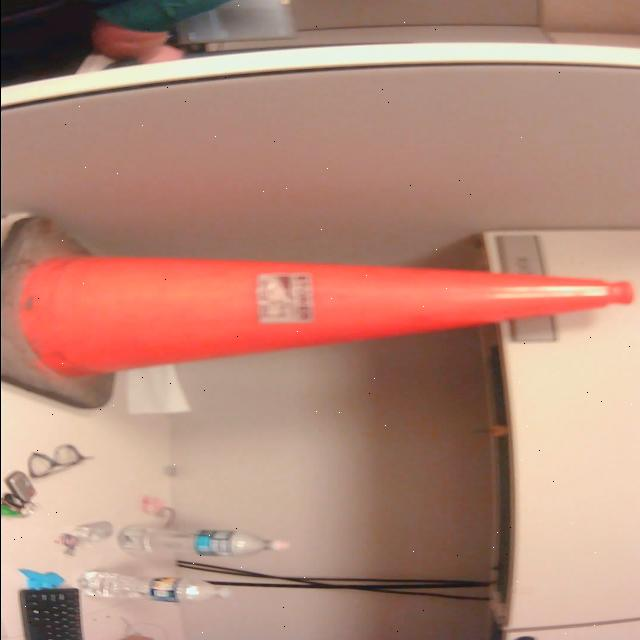traffic cone: (1, 214, 639, 416)
